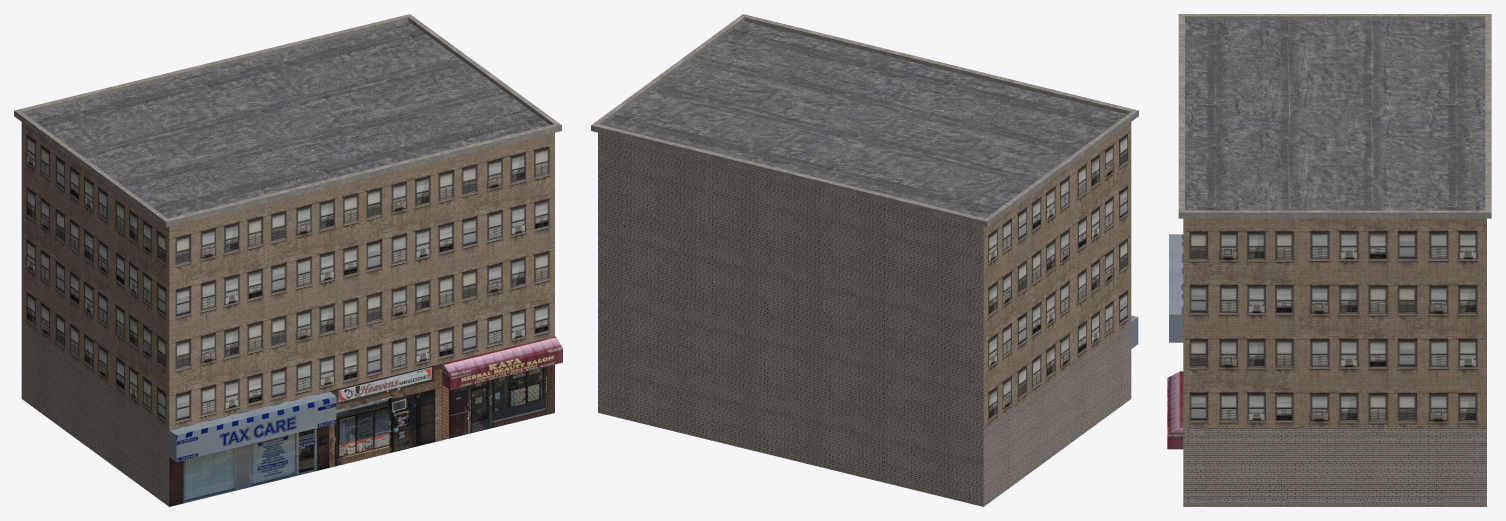
The model's file is building.glb.
3 views of the same model, side by side, from view 1: azimuth 30°, elevation 25°; view 2: azimuth 150°, elevation 25°; view 3: azimuth 270°, elevation 25° (orthographic). The views are drawn at different scales.
Parts seen in each view (by area): view 1: Building; view 2: Building; view 3: Building.
Boxes of the visible parts, x1,y1,x2,y2 form: Building: (14, 14, 562, 506); Building: (591, 14, 1138, 506); Building: (1167, 14, 1491, 506).
Size of the model in its own units: 28.18 by 19.6 by 19.43.
7 materials, 7 textured.
